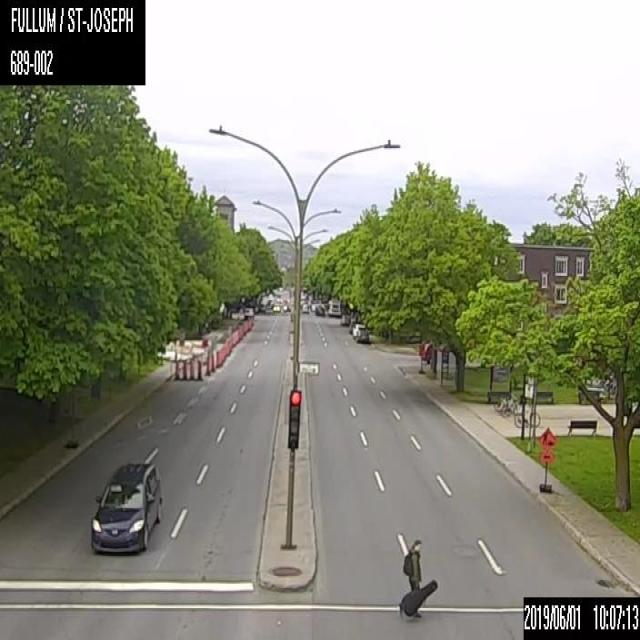construction: (536, 425, 556, 492), (180, 358, 188, 380), (172, 357, 179, 379), (188, 358, 195, 380), (195, 359, 202, 380), (205, 355, 210, 374), (210, 354, 215, 372), (215, 349, 219, 366), (202, 338, 207, 345)
pedestrian: (397, 537, 439, 620)
vehicle: (88, 457, 162, 556), (352, 322, 369, 342), (327, 298, 341, 316), (300, 302, 308, 313), (273, 303, 280, 312)
